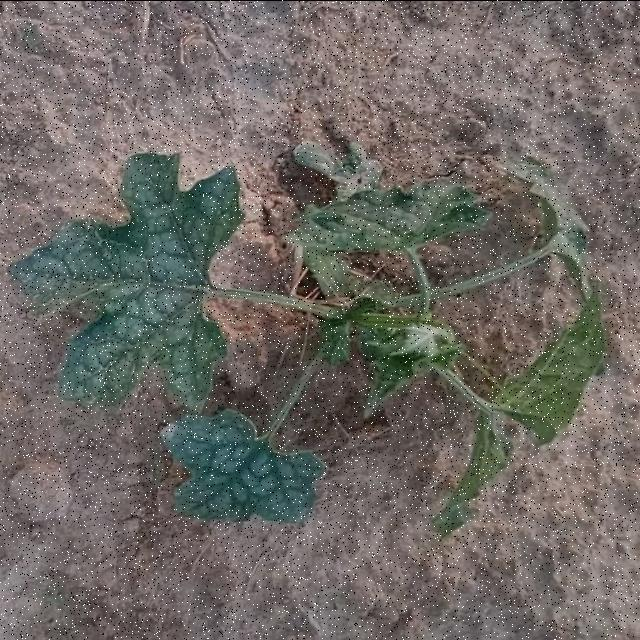plant: (10, 142, 603, 536)
